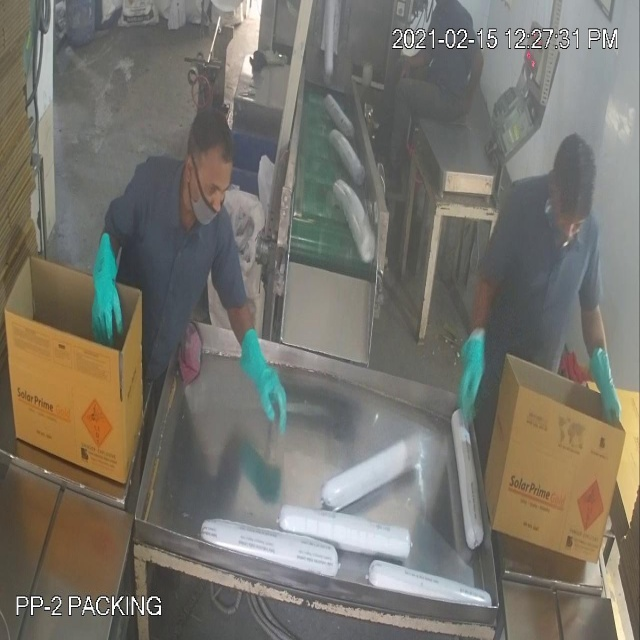Guantes: (235, 318, 298, 443), (81, 212, 130, 368), (588, 332, 627, 447), (453, 321, 484, 428)
Sin_guantes: (459, 51, 492, 132), (394, 44, 438, 84)
